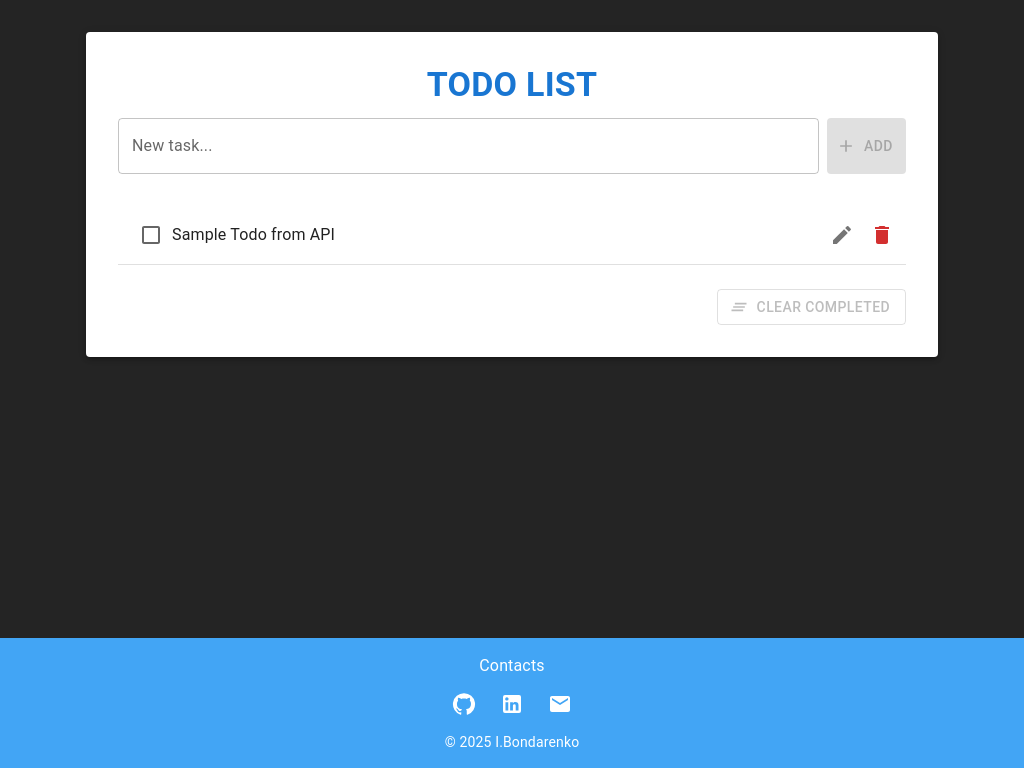
Scenario: Todo рендерить заголовок, завантажує та додає завдання
Expected: the heading "TODO LIST" is shown, x1=427 y1=64 x2=597 y2=104
Expected: the text "Sample Todo from API" is shown, x1=172 y1=223 x2=335 y2=247
Type "Buy milk" into the field labelled "New task...". click: (468, 146)
box: x1=118 y1=118 x2=819 y2=174
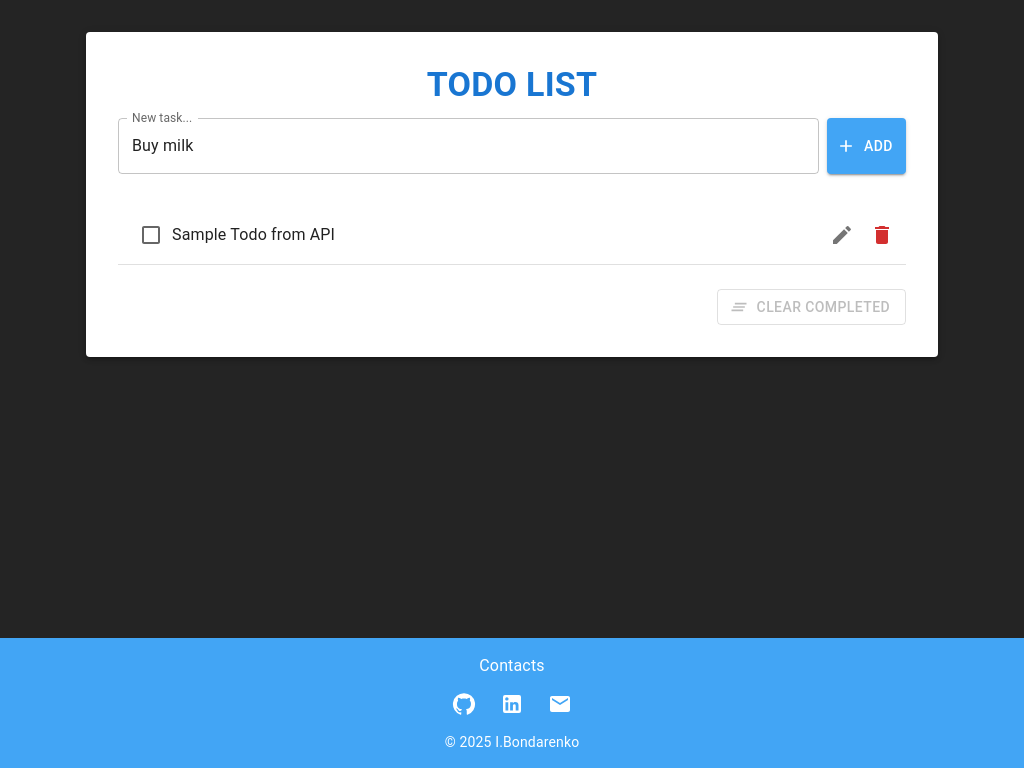
Click the button "Add". click: (866, 146)
box: x1=827 y1=118 x2=906 y2=174
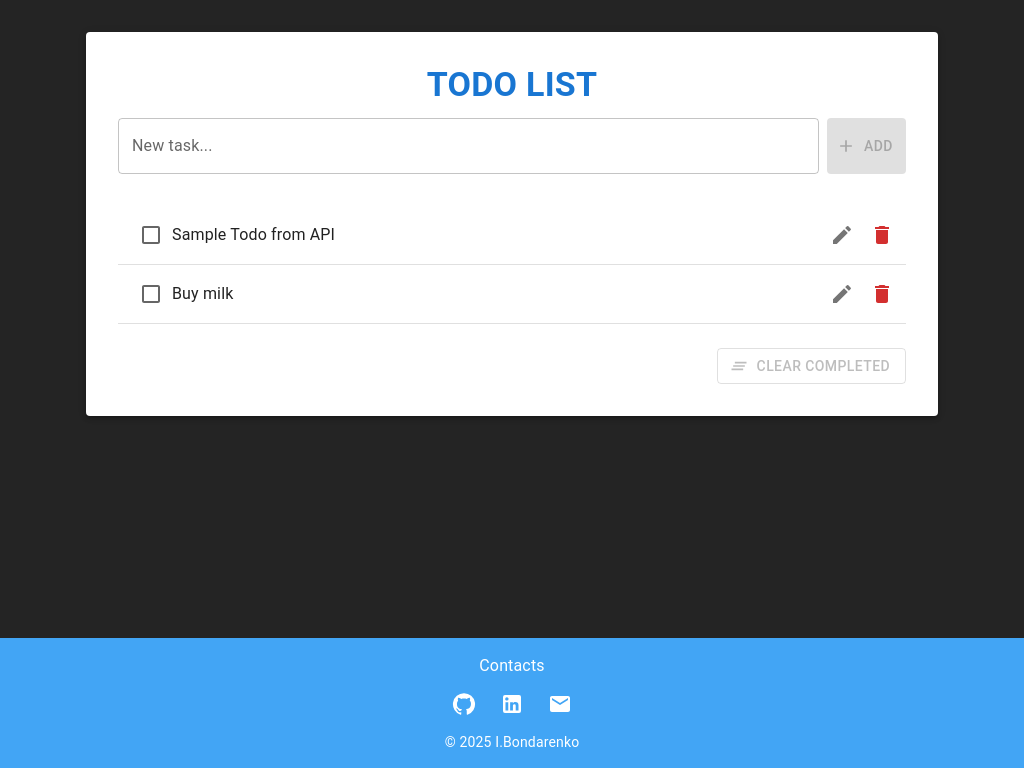
Expected: the text "Buy milk" is shown, x1=172 y1=282 x2=234 y2=306
Expected: the checkbox labelled "Buy milk" is not checked, x1=139 y1=282 x2=234 y2=306
